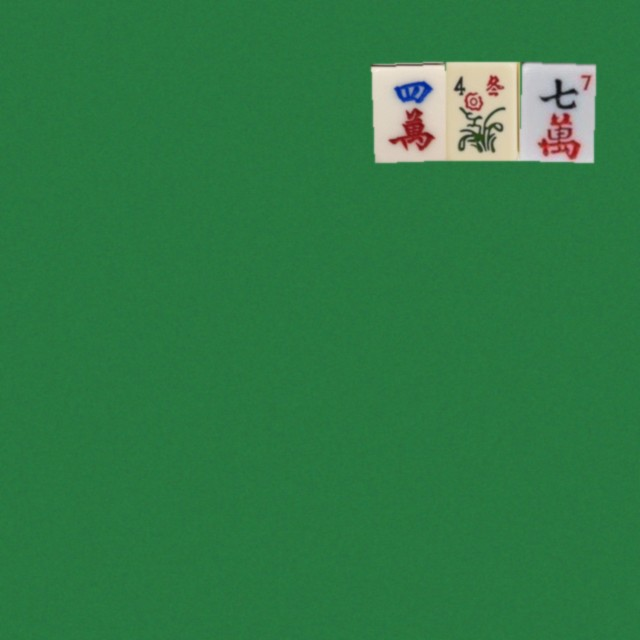tile: (371, 61, 445, 160), (445, 61, 519, 160), (519, 61, 593, 160)
